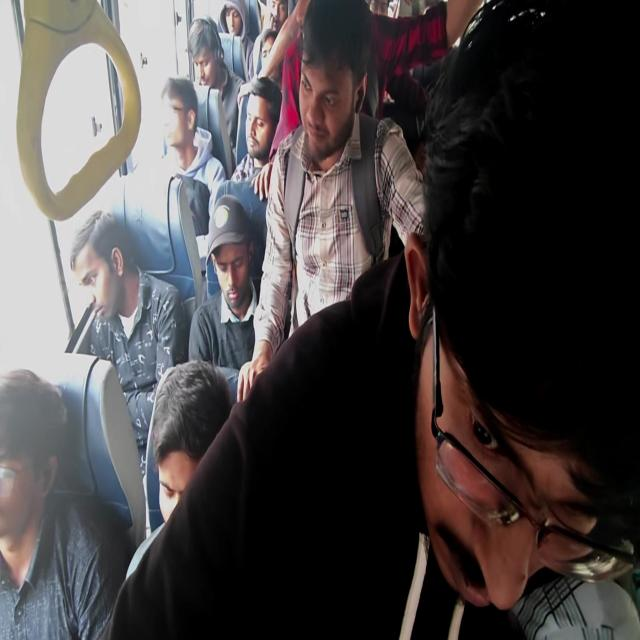person: (104, 1, 638, 638), (235, 0, 428, 403), (69, 208, 184, 531), (257, 0, 483, 162), (0, 367, 132, 639), (187, 193, 260, 403), (150, 358, 232, 524), (158, 75, 226, 234), (187, 16, 244, 152), (230, 76, 282, 200), (218, 0, 254, 81)
